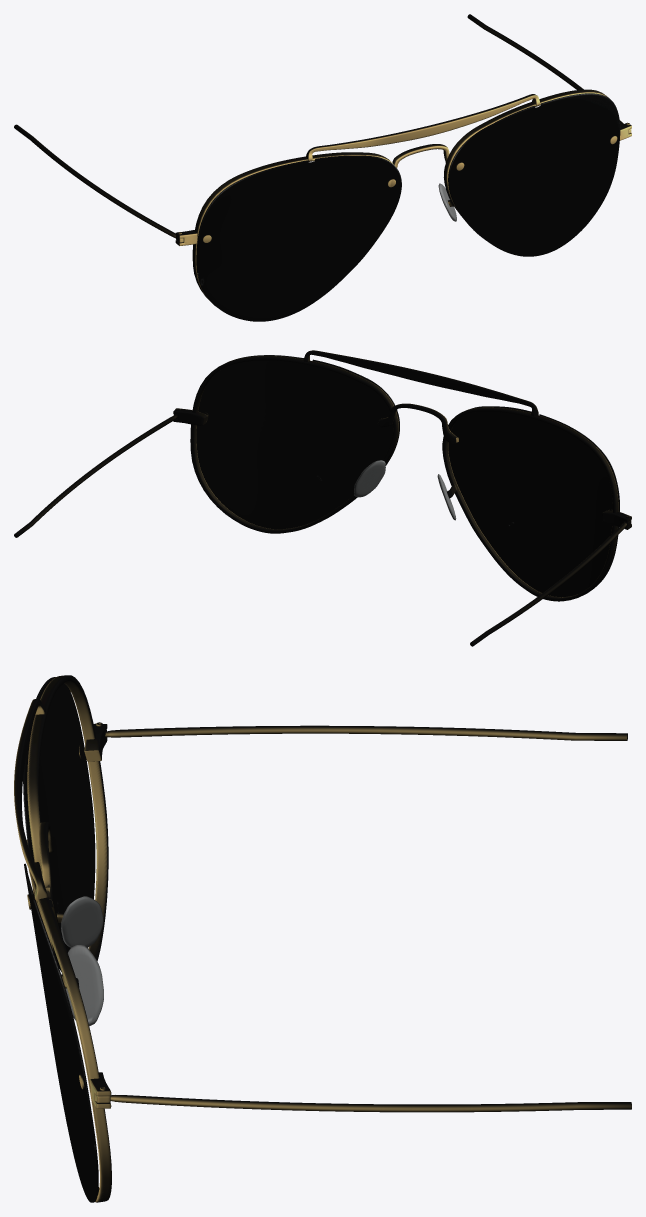
The model's file is blaze aviator.glb.
The picture shows the model from 3 angles, top to bottom: view 1: azimuth 30°, elevation 25°; view 2: azimuth 150°, elevation 25°; view 3: azimuth 270°, elevation 25°; orthographic projection. The views are drawn at different scales.
Parts seen in each view (by area): view 1: Cylinder002; view 2: Cylinder002; view 3: Cylinder002.
Boxes of the visible parts, x1,y1,x2,y2 form: Cylinder002: (14,14,631,321); Cylinder002: (14,350,631,646); Cylinder002: (14,675,631,1202).
Size of the model in its own units: 1.57 by 0.5656 by 1.08.
1 material, 1 textured.
